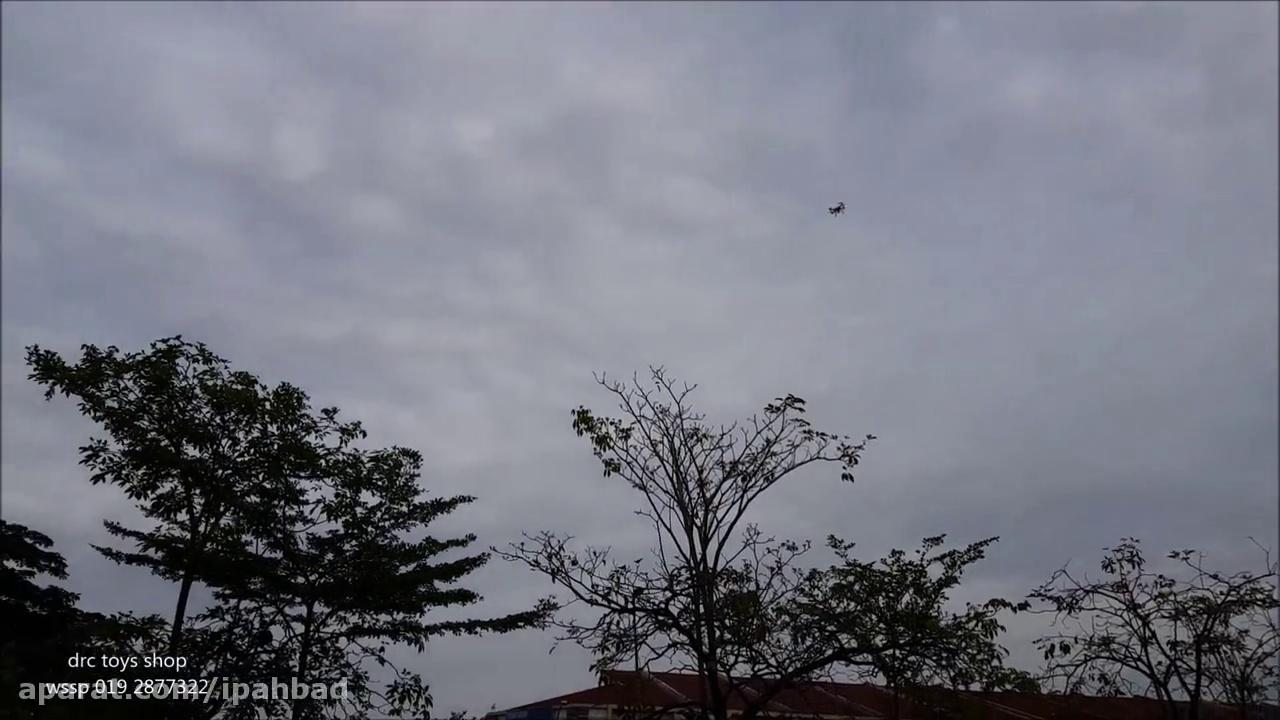drone: (823, 196, 852, 218)
